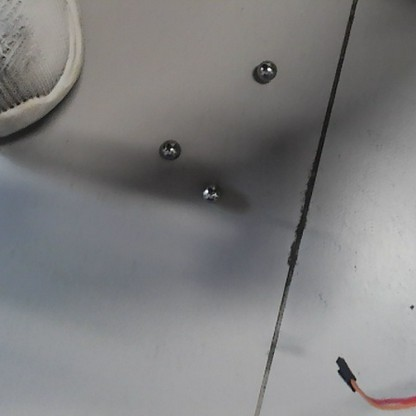ironball: (252, 56, 279, 85), (155, 135, 182, 163), (197, 179, 223, 206)
